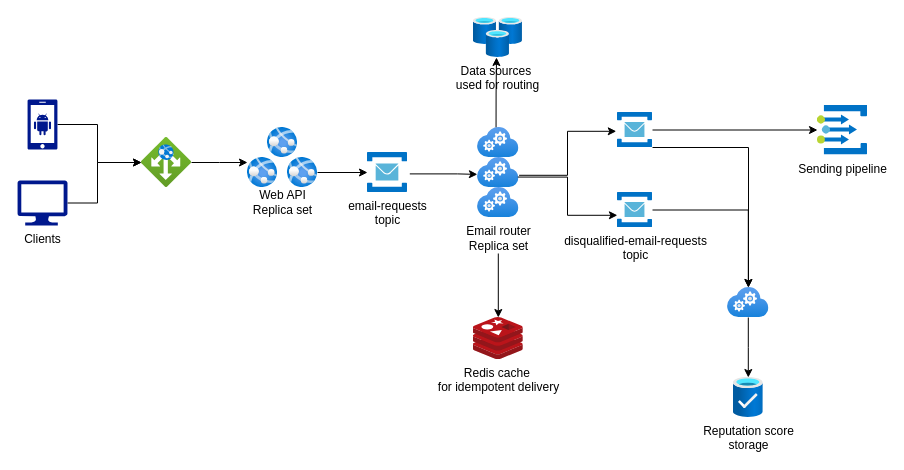
Some shapes in this 904 by 470 pixel diagram are drawn without their labels. The centre of each missing label's shape, as x and y in pixels:
"API Gateway/ Load Balancer" goes at (x=166, y=162).
"Reputation evaluator" goes at (x=747, y=302).
"validated-email-requests topic" goes at (x=634, y=129).
